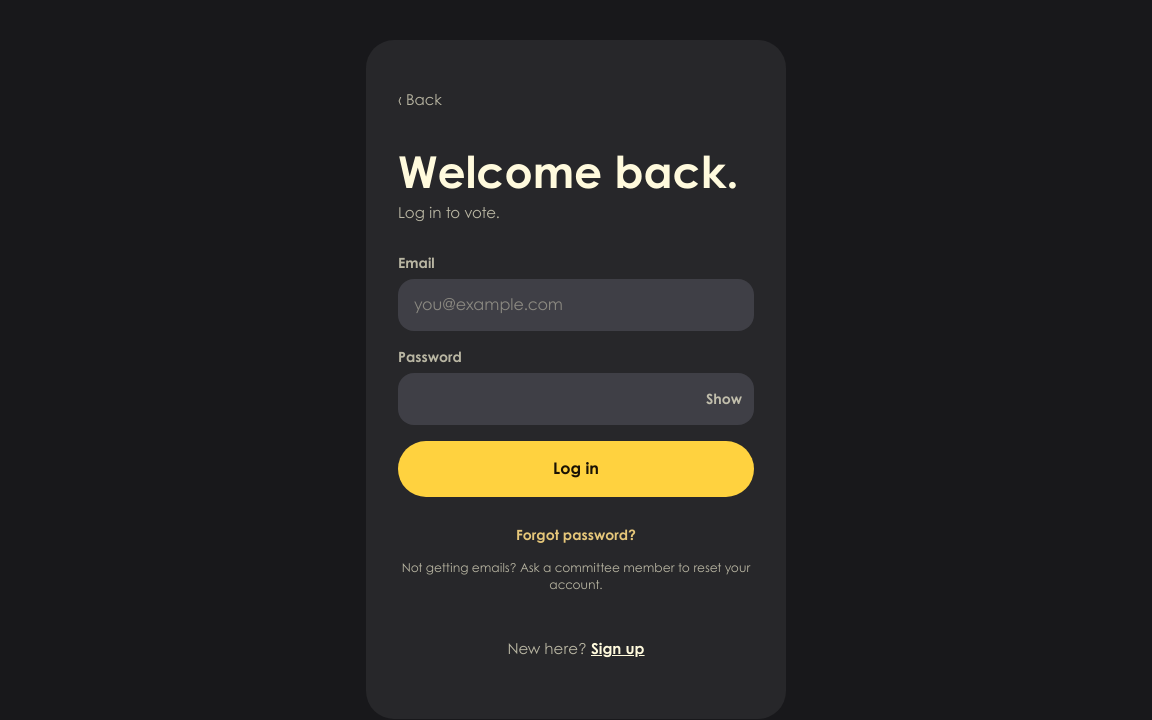
Scenario: Login › opens the reset sheet with the committee hint
Click the button "Forgot password?": click(576, 535) [496,513,656,557]
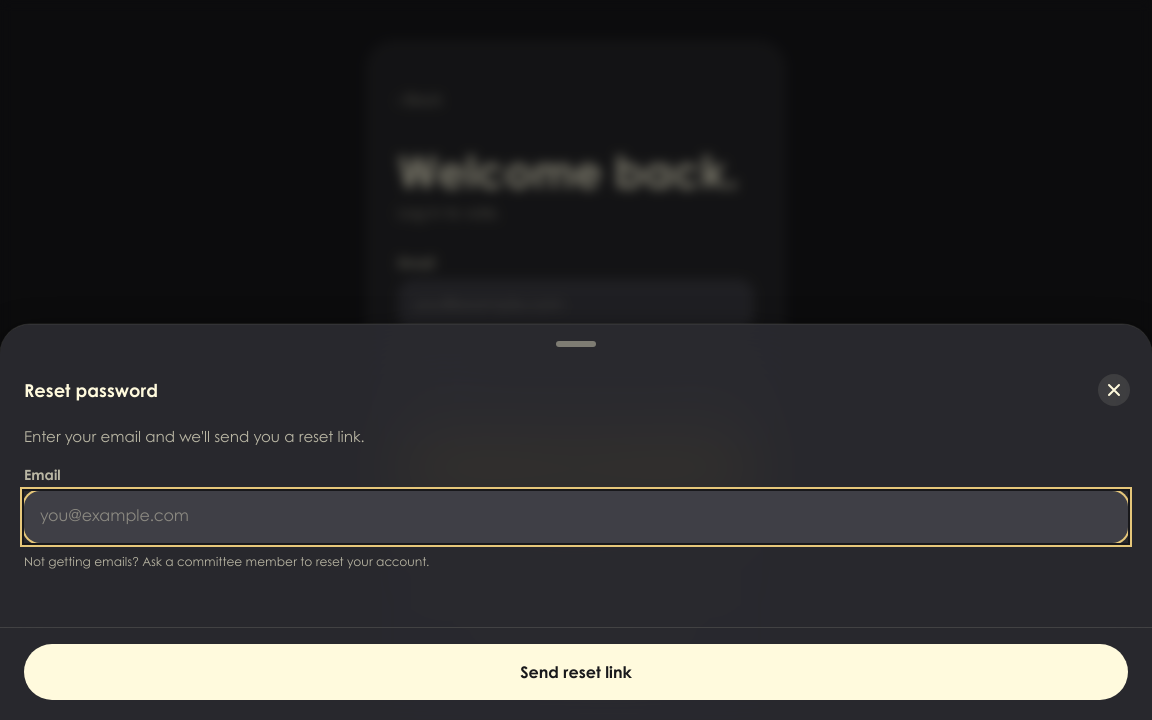
Result: the text "Ask a committee member" is shown at [24,557,429,569]
